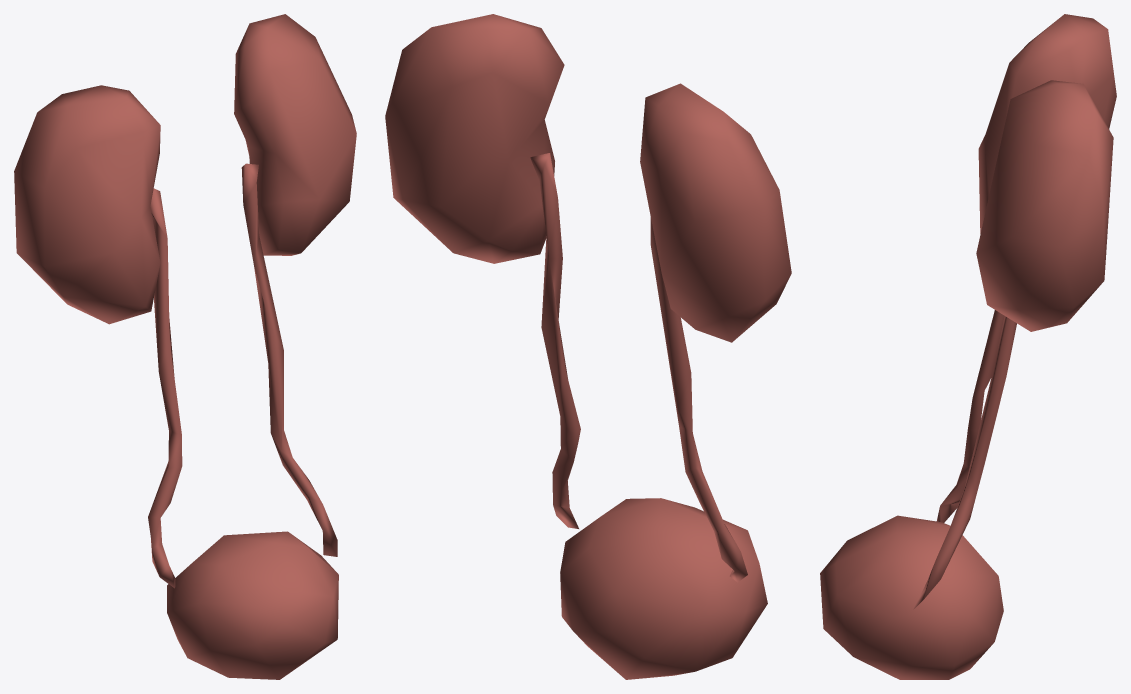
Rendered from pediatric_child_5y_female.urinary.LOD3.glb.
The picture shows the model from 3 angles, left to right: view 1: azimuth 30°, elevation 25°; view 2: azimuth 150°, elevation 25°; view 3: azimuth 270°, elevation 25°; orthographic projection. The views are drawn at different scales.
Parts seen in each view (by area): view 1: PEDIATRIC.CHILD_5Y.FEMALE.URINARY.KIDNEY_CORTEX.R, PEDIATRIC.CHILD_5Y.FEMALE.URINARY.KIDNEY_CORTEX.L, PEDIATRIC.CHILD_5Y.FEMALE.URINARY.URINARY_BLADDER_WALL, PEDIATRIC.CHILD_5Y.FEMALE.URINARY.URETER.L, PEDIATRIC.CHILD_5Y.FEMALE.URINARY.URETER.R; view 2: PEDIATRIC.CHILD_5Y.FEMALE.URINARY.KIDNEY_CORTEX.L, PEDIATRIC.CHILD_5Y.FEMALE.URINARY.URINARY_BLADDER_WALL, PEDIATRIC.CHILD_5Y.FEMALE.URINARY.KIDNEY_CORTEX.R, PEDIATRIC.CHILD_5Y.FEMALE.URINARY.URETER.L, PEDIATRIC.CHILD_5Y.FEMALE.URINARY.URETER.R; view 3: PEDIATRIC.CHILD_5Y.FEMALE.URINARY.KIDNEY_CORTEX.L, PEDIATRIC.CHILD_5Y.FEMALE.URINARY.URINARY_BLADDER_WALL, PEDIATRIC.CHILD_5Y.FEMALE.URINARY.KIDNEY_CORTEX.R, PEDIATRIC.CHILD_5Y.FEMALE.URINARY.URETER.L, PEDIATRIC.CHILD_5Y.FEMALE.URINARY.URETER.R.
Part boxes in pixels (left/top/right/bottom): PEDIATRIC.CHILD_5Y.FEMALE.URINARY.KIDNEY_CORTEX.R: left=14, top=85, right=160, bottom=324; PEDIATRIC.CHILD_5Y.FEMALE.URINARY.KIDNEY_CORTEX.L: left=234, top=14, right=356, bottom=255; PEDIATRIC.CHILD_5Y.FEMALE.URINARY.URINARY_BLADDER_WALL: left=167, top=531, right=338, bottom=679; PEDIATRIC.CHILD_5Y.FEMALE.URINARY.URETER.L: left=241, top=163, right=337, bottom=556; PEDIATRIC.CHILD_5Y.FEMALE.URINARY.URETER.R: left=148, top=188, right=182, bottom=588; PEDIATRIC.CHILD_5Y.FEMALE.URINARY.KIDNEY_CORTEX.L: left=385, top=14, right=564, bottom=263; PEDIATRIC.CHILD_5Y.FEMALE.URINARY.URINARY_BLADDER_WALL: left=560, top=498, right=767, bottom=679; PEDIATRIC.CHILD_5Y.FEMALE.URINARY.KIDNEY_CORTEX.R: left=640, top=83, right=791, bottom=342; PEDIATRIC.CHILD_5Y.FEMALE.URINARY.URETER.L: left=530, top=153, right=580, bottom=528; PEDIATRIC.CHILD_5Y.FEMALE.URINARY.URETER.R: left=650, top=217, right=747, bottom=582; PEDIATRIC.CHILD_5Y.FEMALE.URINARY.KIDNEY_CORTEX.L: left=976, top=80, right=1113, bottom=331; PEDIATRIC.CHILD_5Y.FEMALE.URINARY.URINARY_BLADDER_WALL: left=820, top=515, right=1003, bottom=679; PEDIATRIC.CHILD_5Y.FEMALE.URINARY.KIDNEY_CORTEX.R: left=978, top=14, right=1116, bottom=233; PEDIATRIC.CHILD_5Y.FEMALE.URINARY.URETER.L: left=913, top=316, right=1016, bottom=609; PEDIATRIC.CHILD_5Y.FEMALE.URINARY.URETER.R: left=936, top=310, right=1004, bottom=522.
Bounding box in the file's own units: 0.1231 × 0.2083 × 0.0892.
